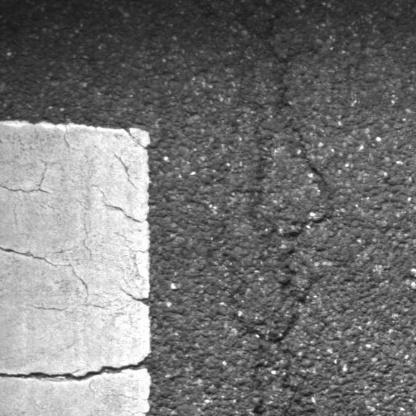Cracks: (251, 110, 339, 354), (235, 9, 316, 138)
